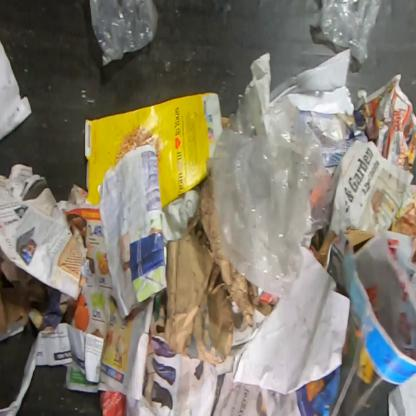cardboard: (164, 158, 273, 366), (84, 92, 223, 210)
soft_plastic: (212, 79, 344, 302), (88, 0, 159, 67), (319, 0, 382, 65)
